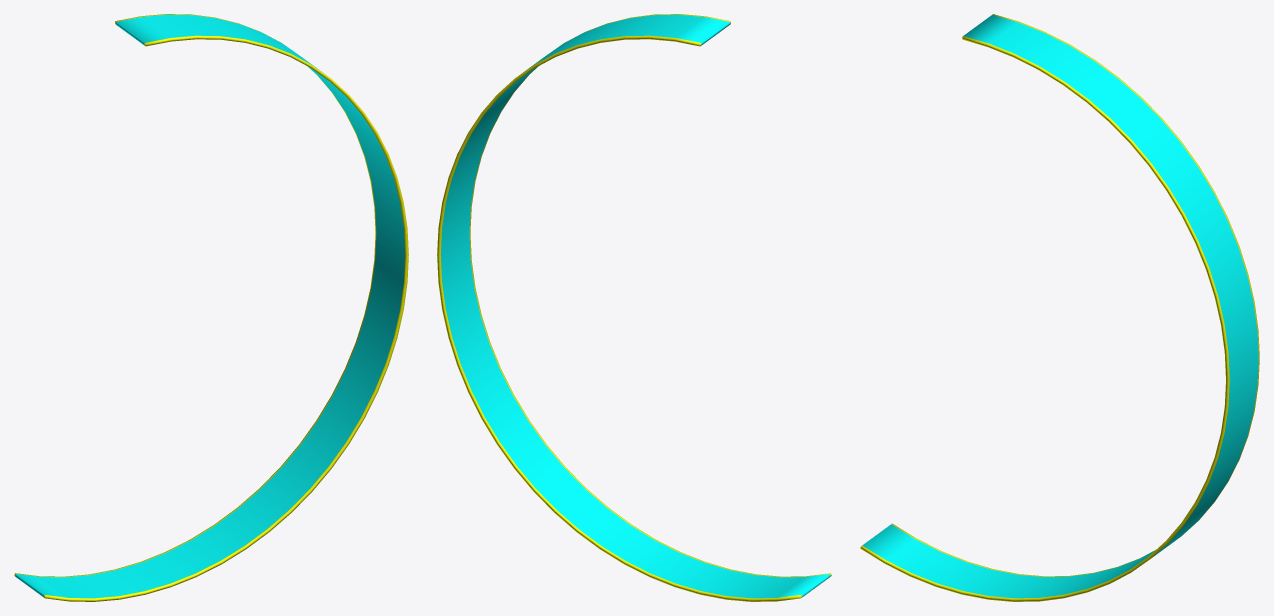
The model's file is TouchNote08.fbx.
3 views of the same model, side by side, from view 1: azimuth 30°, elevation 25°; view 2: azimuth 150°, elevation 25°; view 3: azimuth 330°, elevation 25° (orthographic).
Visible parts, largest first — view 1: TouchNote08; view 2: TouchNote08; view 3: TouchNote08.
Boxes of the visible parts, <box> form: TouchNote08: <box>14,14,408,601</box>; TouchNote08: <box>437,14,831,601</box>; TouchNote08: <box>860,14,1259,601</box>.
Size of the model in its own units: 137 by 20 by 198.
